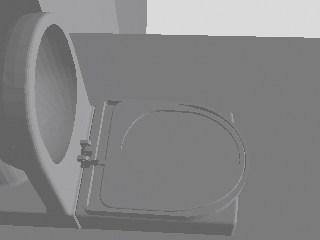lid_1: (82, 97, 250, 221)
